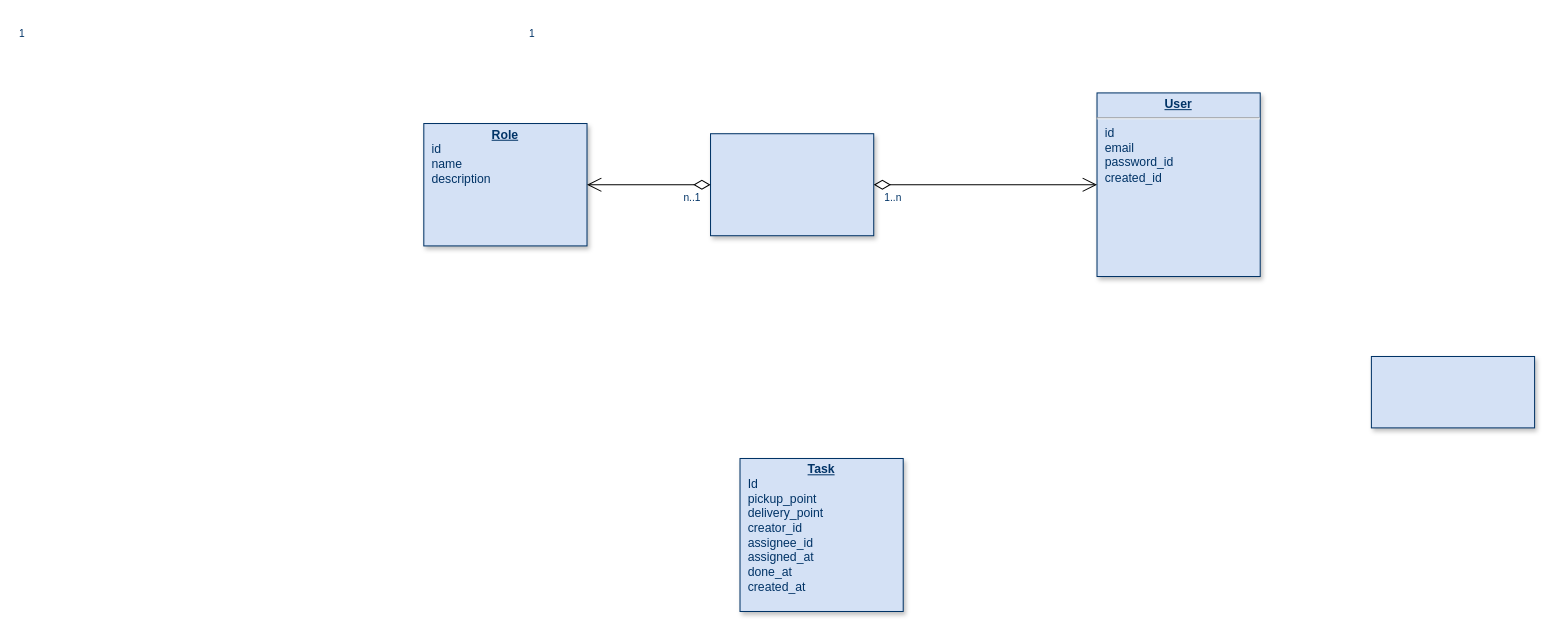
This 1559x638 diagram has some shape labels left out. The centre of each missing label's shape, as x and y in pixels:
TokenWhitelist id token: the point at 1453,393
UserRole user_id role_id: the point at 792,186
